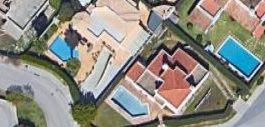pool: (225, 37, 256, 76), (116, 87, 144, 116), (51, 37, 77, 64)
